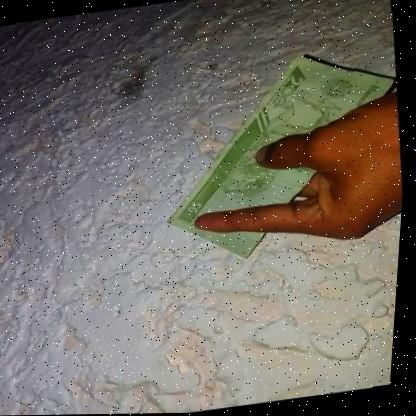fifty-back-vef: (148, 42, 414, 271)
